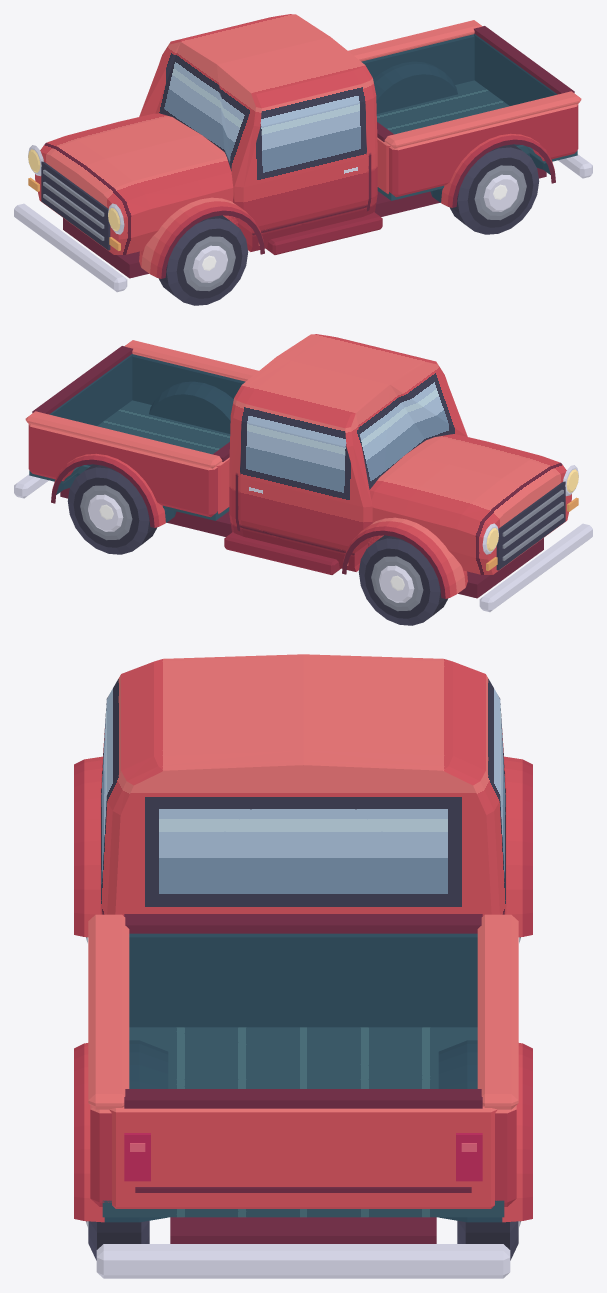
3 views of the same model, one above another, from view 1: azimuth 30°, elevation 25°; view 2: azimuth 150°, elevation 25°; view 3: azimuth 270°, elevation 25° (orthographic). The views are drawn at different scales.
Parts seen in each view (by area): view 1: Body_static, Wheel_FL_tire_hub, Wheel_RL_tire_hub; view 2: Body_static, Wheel_FR_tire_hub, Wheel_RR_tire_hub; view 3: Body_static, Wheel_RL_tire_hub, Wheel_RR_tire_hub.
Boxes of the visible parts, x1,y1,x2,y2 form: Body_static: (14, 14, 592, 292); Wheel_FL_tire_hub: (158, 215, 248, 305); Wheel_RL_tire_hub: (449, 144, 539, 234); Body_static: (14, 334, 592, 612); Wheel_FR_tire_hub: (358, 535, 448, 625); Wheel_RR_tire_hub: (67, 464, 157, 554); Body_static: (74, 654, 532, 1278); Wheel_RL_tire_hub: (86, 1220, 149, 1260); Wheel_RR_tire_hub: (457, 1220, 520, 1260).
Size of the model in its own units: 93.91 by 35.13 by 38.96.
Materials: 1 (1 with a texture image).
